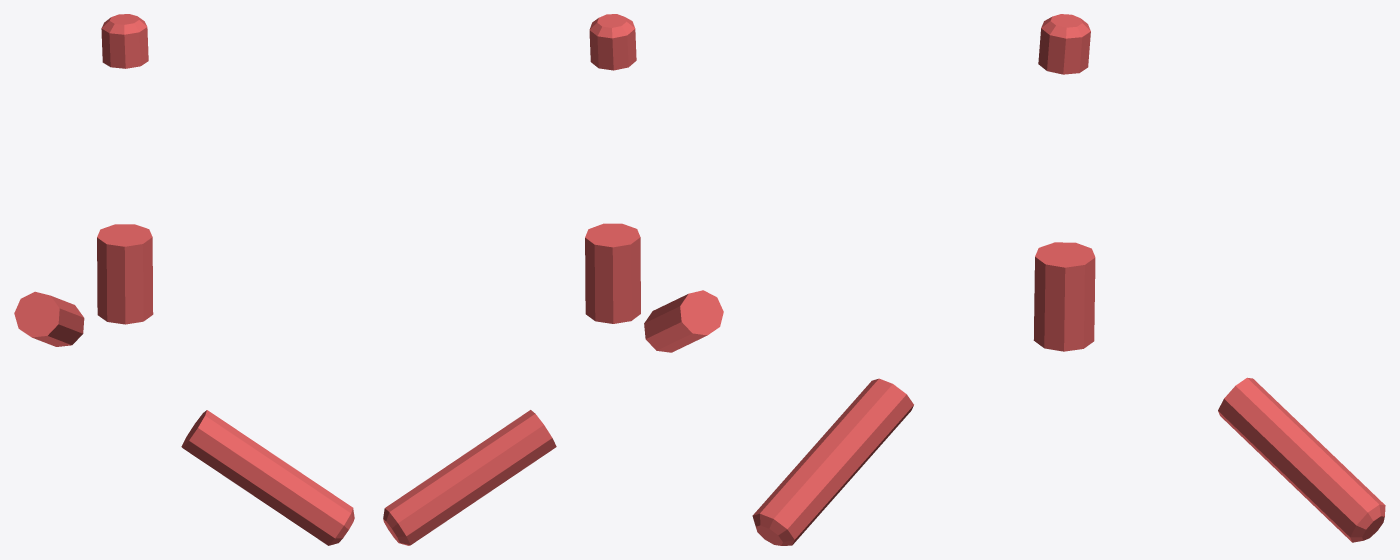
3 renders of one model, left to right at view 1: azimuth 30°, elevation 25°; view 2: azimuth 150°, elevation 25°; view 3: azimuth 270°, elevation 25°, orthographic. The views are drawn at different scales.
Visible parts, largest first — view 1: pCylinder9; view 2: pCylinder9; view 3: pCylinder9.
Boxes of the visible parts, left/top/right/bottom form: pCylinder9: left=14, top=14, right=354, bottom=545; pCylinder9: left=383, top=14, right=723, bottom=545; pCylinder9: left=752, top=14, right=1385, bottom=545.
Size of the model in its own units: 1.34 by 4.71 by 5.56.
